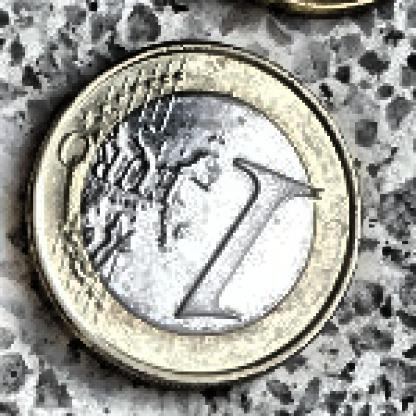coin: (26, 40, 357, 394)
